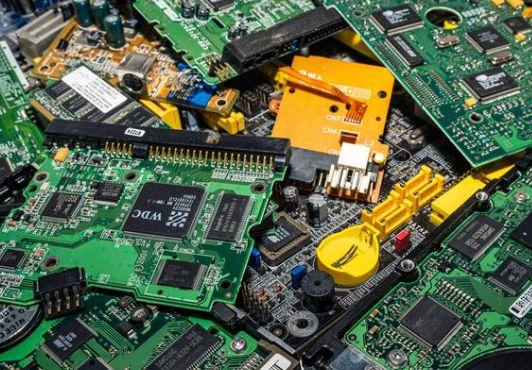electronic: (230, 97, 478, 357), (4, 121, 287, 318), (325, 1, 532, 169), (29, 9, 245, 135), (267, 54, 393, 202), (128, 1, 331, 86), (5, 2, 133, 72), (1, 33, 52, 174)
